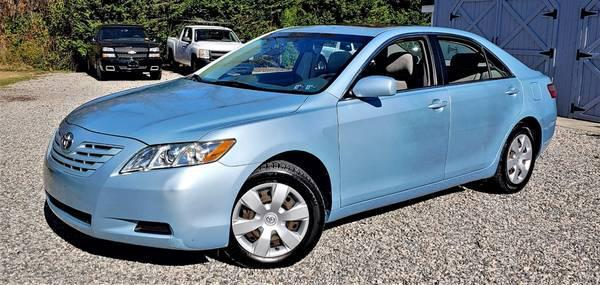Front_Bumper: (39, 144, 258, 251)
Front_Fender: (201, 92, 342, 221)
Front_Left_Door: (338, 85, 449, 219)
Front_Left_Window: (336, 34, 442, 103)
Front_Windshield: (182, 33, 369, 99)
Grille: (42, 124, 124, 177)
Hood: (60, 78, 308, 151)
Left_Headlight: (120, 139, 236, 174)
Rear_Bumper: (541, 117, 561, 156)
Rear_Fender: (517, 74, 558, 127)
Rear_Left_Door: (444, 79, 523, 188)
Rear_Left_Window: (426, 33, 516, 87)
Roof: (270, 24, 542, 101)
Wheel: (225, 158, 324, 266), (501, 127, 540, 188)
